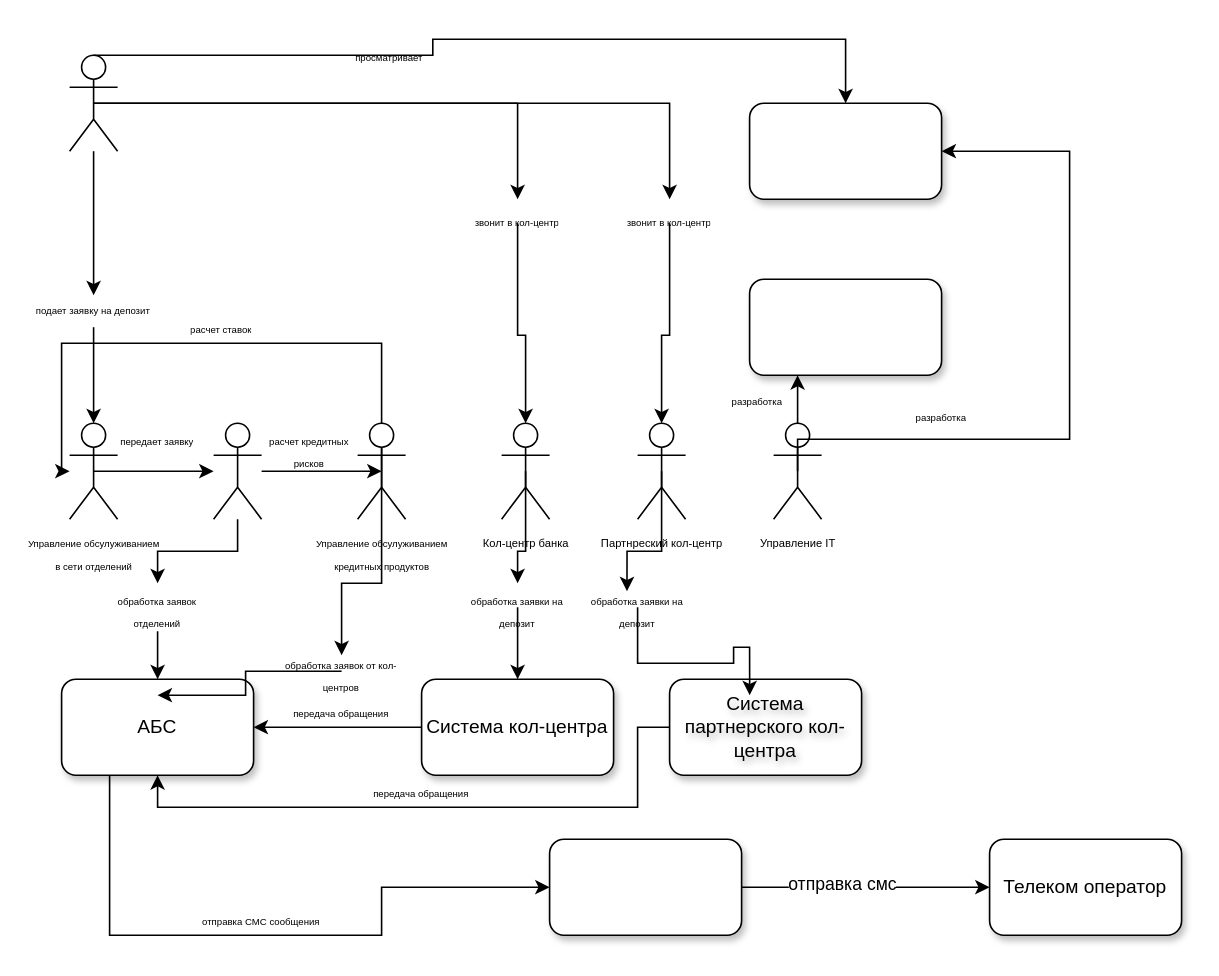
Image size: 1219x976. Some labels were removed from this diagram. Here are the shapes that lost their labels. From the top down, the centre of each, then its label:
At pixel 93 102: "Клиент".
At pixel 846 152: "Сайт".
At pixel 846 328: "Интернет-банк".
At pixel 237 470: "Управление обсулуживанием депозитных продуктов".
At pixel 646 888: "Смс шлюз телеком оператора".
